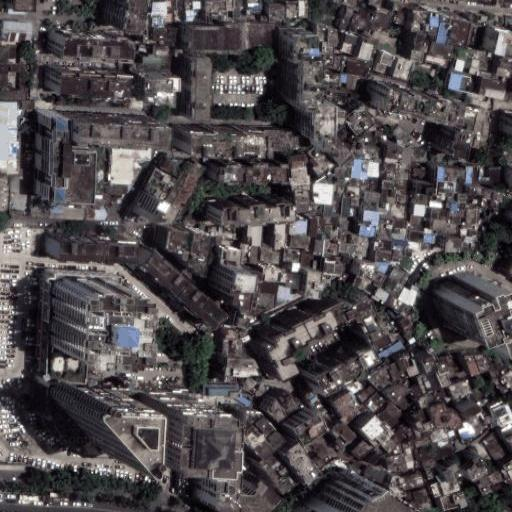building: (254, 293, 350, 373), (129, 244, 216, 323), (45, 282, 126, 363), (428, 272, 511, 345), (134, 390, 200, 468), (47, 382, 115, 455), (383, 86, 482, 133), (309, 467, 396, 512), (299, 340, 370, 386), (61, 116, 165, 147), (159, 157, 203, 220), (190, 131, 302, 155), (191, 474, 259, 512), (40, 230, 130, 258), (45, 28, 122, 58), (34, 114, 61, 198), (353, 298, 393, 352), (84, 176, 129, 220), (363, 358, 412, 397), (43, 66, 115, 92), (243, 419, 285, 463), (222, 204, 301, 227), (53, 147, 85, 198), (289, 153, 315, 215), (303, 432, 340, 471), (191, 26, 241, 54), (288, 444, 321, 486), (360, 413, 397, 450), (267, 389, 304, 426), (142, 166, 176, 203), (140, 74, 180, 105), (383, 142, 414, 181), (455, 48, 495, 78), (218, 165, 293, 181), (290, 96, 322, 132), (472, 186, 511, 215), (175, 224, 199, 270), (332, 392, 363, 427), (285, 412, 321, 442), (135, 40, 172, 69), (267, 456, 295, 494), (195, 57, 211, 122), (131, 193, 163, 224), (430, 402, 463, 431), (284, 53, 305, 97), (446, 16, 473, 49), (239, 24, 276, 48), (323, 137, 353, 166), (379, 402, 408, 431), (345, 107, 374, 136), (480, 432, 508, 462), (359, 388, 389, 416), (307, 146, 333, 177), (330, 419, 358, 447), (451, 128, 474, 161), (381, 178, 409, 205), (479, 78, 510, 102), (346, 8, 370, 38), (110, 0, 136, 27), (277, 28, 305, 53), (370, 6, 394, 35), (226, 358, 260, 378), (154, 222, 180, 247), (406, 385, 429, 413), (7, 177, 27, 209), (304, 388, 327, 415), (415, 369, 439, 394), (203, 384, 243, 399), (346, 234, 372, 257), (409, 9, 432, 35), (389, 384, 411, 411), (393, 55, 415, 82), (411, 486, 433, 512), (378, 340, 405, 361), (425, 40, 453, 60), (472, 166, 503, 184), (487, 26, 510, 50), (323, 85, 352, 104), (446, 380, 472, 401), (401, 350, 422, 376), (258, 245, 281, 268), (394, 422, 416, 446), (411, 408, 433, 432), (181, 0, 205, 22), (429, 440, 454, 461), (493, 401, 512, 428), (305, 270, 322, 300), (473, 473, 495, 496), (352, 438, 374, 461), (219, 246, 242, 268), (472, 349, 493, 373), (374, 239, 394, 264), (233, 274, 259, 293), (468, 25, 487, 51), (282, 2, 309, 20), (398, 285, 420, 307), (321, 255, 343, 277), (381, 434, 404, 455), (231, 290, 254, 311), (433, 180, 456, 201), (364, 464, 388, 484), (437, 459, 460, 479), (420, 351, 440, 374), (388, 296, 411, 316), (313, 180, 332, 204), (495, 114, 512, 140), (358, 145, 384, 162), (388, 266, 409, 287), (449, 73, 472, 92), (205, 0, 228, 19), (438, 478, 461, 497), (392, 239, 410, 263), (338, 6, 354, 33), (463, 353, 480, 378), (391, 2, 408, 27), (425, 388, 446, 408), (436, 362, 452, 388), (389, 475, 407, 498), (340, 33, 358, 56), (242, 245, 259, 269), (272, 223, 287, 250), (326, 23, 341, 50), (435, 167, 466, 180), (234, 309, 254, 329), (348, 274, 368, 294), (342, 71, 362, 91), (459, 448, 480, 467), (452, 489, 470, 511), (253, 292, 275, 310), (321, 52, 342, 70), (498, 53, 512, 80), (430, 427, 452, 444), (222, 339, 245, 355), (280, 273, 303, 289), (405, 472, 424, 491), (388, 455, 406, 475), (455, 180, 467, 210), (404, 442, 415, 474), (358, 42, 374, 64), (350, 159, 368, 178), (487, 468, 504, 488), (322, 69, 342, 86), (498, 368, 512, 392), (413, 33, 429, 54), (345, 59, 367, 74), (435, 23, 450, 45), (372, 287, 390, 305), (458, 423, 477, 440), (362, 209, 379, 228), (289, 218, 308, 235), (346, 378, 365, 395), (261, 268, 285, 281), (440, 494, 457, 512), (307, 217, 325, 234), (389, 204, 407, 221), (246, 225, 261, 245), (498, 254, 512, 275), (415, 429, 432, 446), (398, 315, 414, 333), (290, 234, 309, 249), (415, 182, 436, 195), (284, 247, 301, 263), (463, 404, 481, 419), (358, 225, 377, 239), (431, 208, 450, 222), (0, 176, 8, 208), (391, 124, 407, 140), (418, 445, 433, 462), (359, 262, 376, 277), (371, 274, 388, 289), (424, 54, 447, 65), (466, 208, 480, 226), (277, 284, 290, 303), (340, 197, 351, 219), (380, 51, 395, 67), (446, 237, 460, 254), (393, 227, 410, 241), (323, 243, 339, 257), (150, 14, 166, 28), (151, 2, 167, 16), (408, 230, 425, 243), (270, 4, 283, 21), (431, 220, 449, 232), (334, 0, 358, 9), (502, 461, 512, 482), (410, 214, 424, 229), (375, 62, 390, 76), (317, 24, 328, 43), (244, 377, 257, 393), (378, 203, 391, 219), (431, 482, 443, 499), (365, 191, 382, 203), (367, 161, 379, 178), (334, 177, 344, 197), (407, 50, 425, 61), (412, 148, 426, 162), (430, 11, 441, 28), (367, 453, 380, 466), (447, 222, 460, 235), (299, 253, 313, 265), (421, 459, 436, 470), (375, 263, 390, 274), (313, 240, 324, 255), (346, 186, 361, 197), (407, 241, 423, 251), (320, 42, 334, 53), (427, 200, 444, 209), (366, 0, 385, 8), (429, 27, 439, 42), (247, 0, 262, 10), (339, 218, 350, 231), (415, 195, 429, 205), (393, 220, 410, 228), (221, 0, 236, 9), (291, 262, 302, 274), (338, 240, 349, 252), (466, 184, 477, 196), (335, 166, 347, 177), (414, 167, 427, 177), (424, 234, 436, 244), (466, 167, 473, 184), (323, 203, 332, 216), (451, 210, 467, 217), (414, 204, 424, 215), (426, 468, 434, 481), (351, 196, 360, 207), (363, 132, 372, 143), (226, 376, 238, 384), (462, 224, 478, 230), (233, 5, 240, 18), (340, 233, 350, 242), (246, 9, 255, 19), (506, 435, 512, 449), (458, 227, 467, 236), (452, 217, 463, 224), (385, 224, 394, 232), (464, 236, 472, 244), (331, 230, 339, 238), (368, 124, 376, 132), (450, 200, 456, 210), (479, 16, 489, 22), (495, 0, 504, 6), (165, 16, 174, 22), (444, 201, 450, 209), (260, 16, 269, 21), (380, 136, 387, 141), (375, 132, 382, 137)
